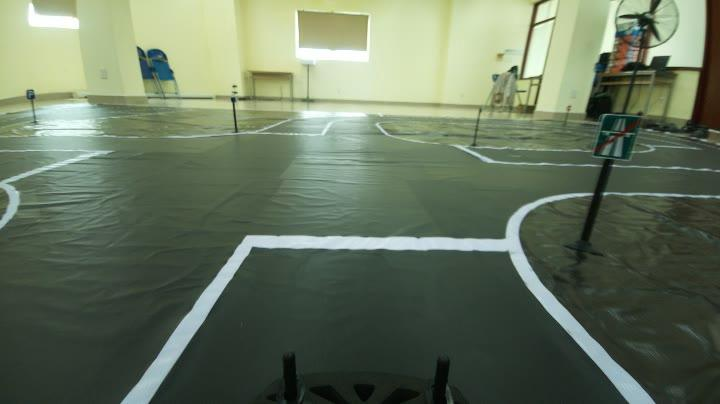highway_exit: (586, 104, 646, 174)
